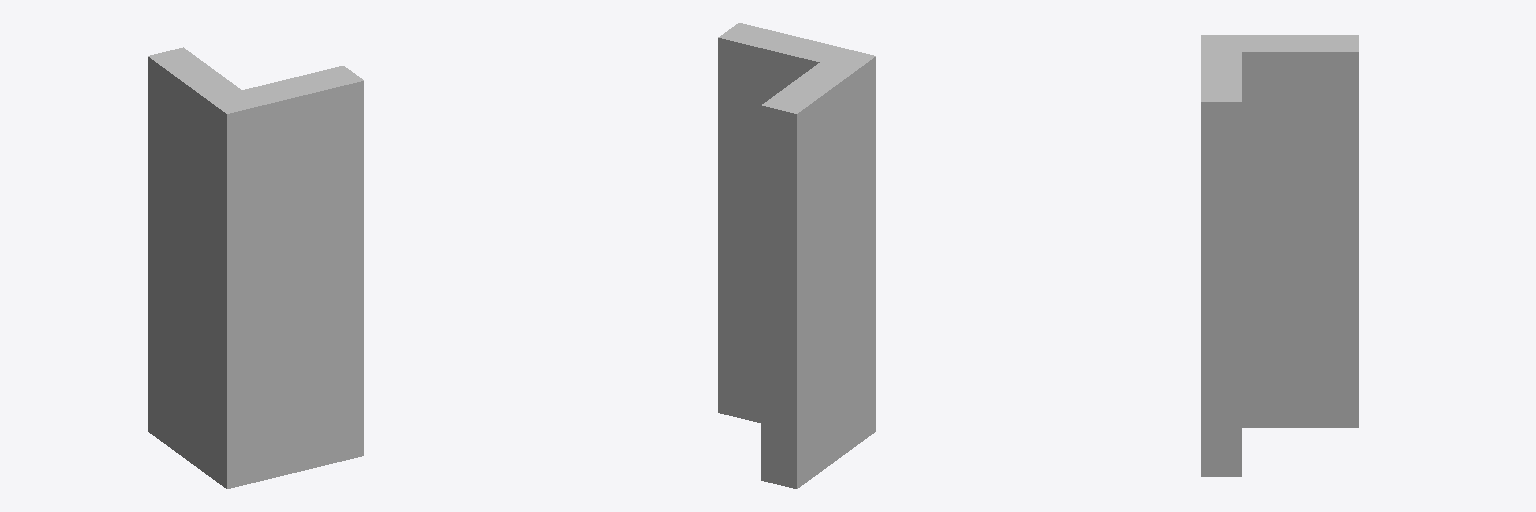
The model's file is SM_WallCorner.obj.
3 views of the same model, side by side, from view 1: azimuth 30°, elevation 25°; view 2: azimuth 150°, elevation 25°; view 3: azimuth 270°, elevation 25° (orthographic).
Parts seen in each view (by area): view 1: WallCorner; view 2: WallCorner; view 3: WallCorner.
Boxes of the visible parts, box(x1,y1,x2,y2) form: WallCorner: box(148, 47, 363, 488); WallCorner: box(718, 23, 875, 488); WallCorner: box(1201, 35, 1358, 476).
Size of the model in its own units: 1.15 by 3 by 1.15.